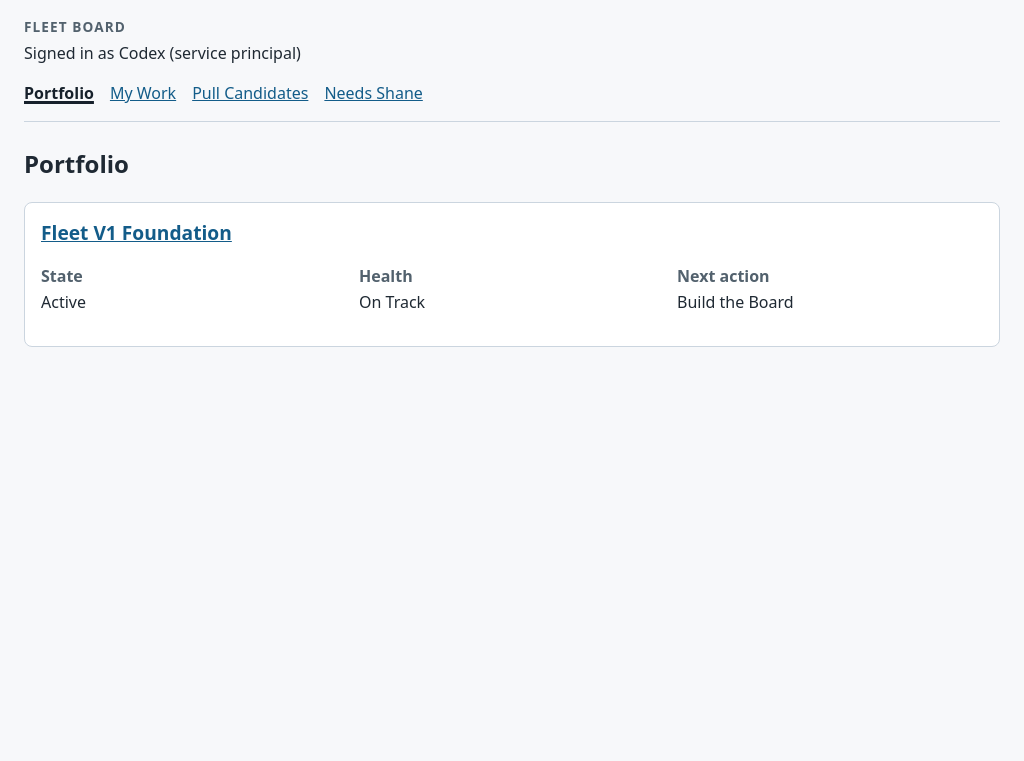
it: Fleet Board › shows project provenance, ownership, plan, state, health, next action, and evidence
Expected: the text "Signed in as Codex (service principal)" is shown, [24,42,301,64]
Click the link "Fleet V1 Foundation" at (136, 233), box [41,219,232,246]
(page scrolled)
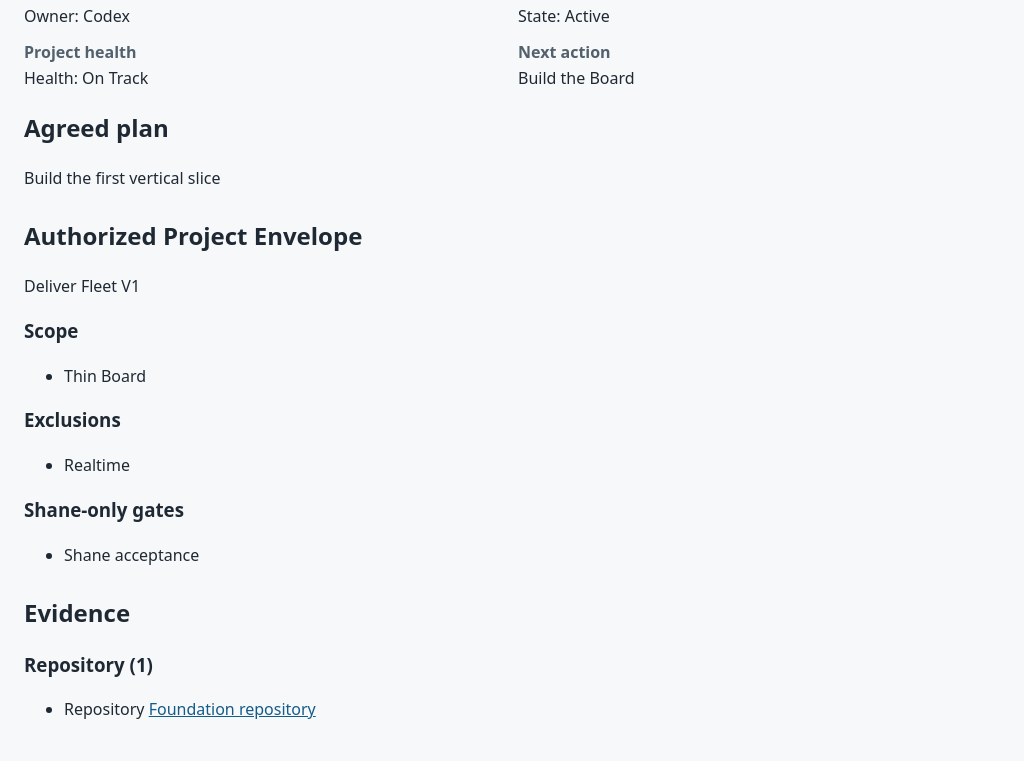
Result: the text "Owner: Codex" is shown at [24,5,130,27]
Result: the text "State: Active" is shown at [518,5,610,27]
Result: the text "Health: On Track" is shown at [24,67,148,89]
